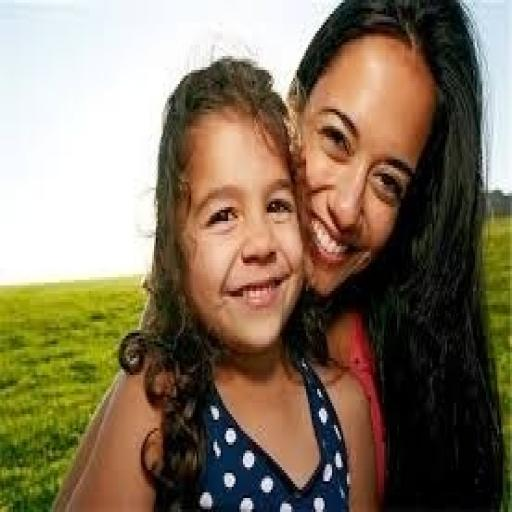hugging: (50, 0, 505, 509)
